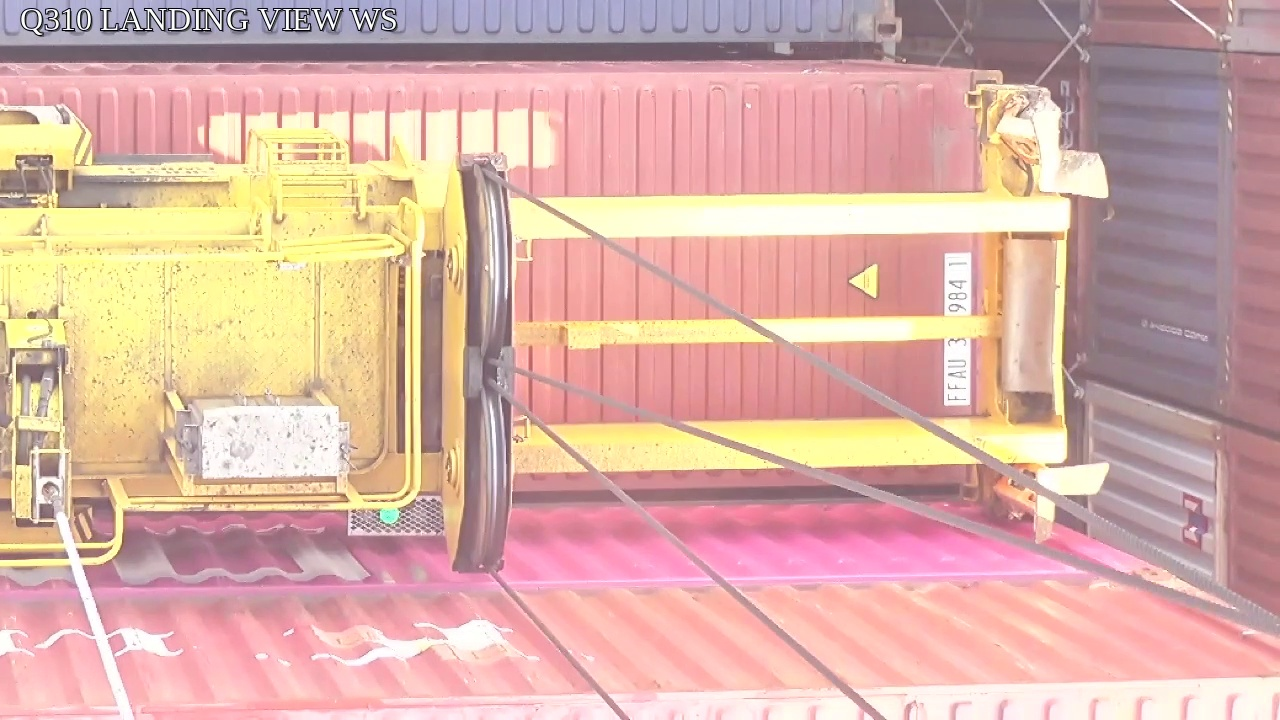right: (441, 152, 516, 575)
